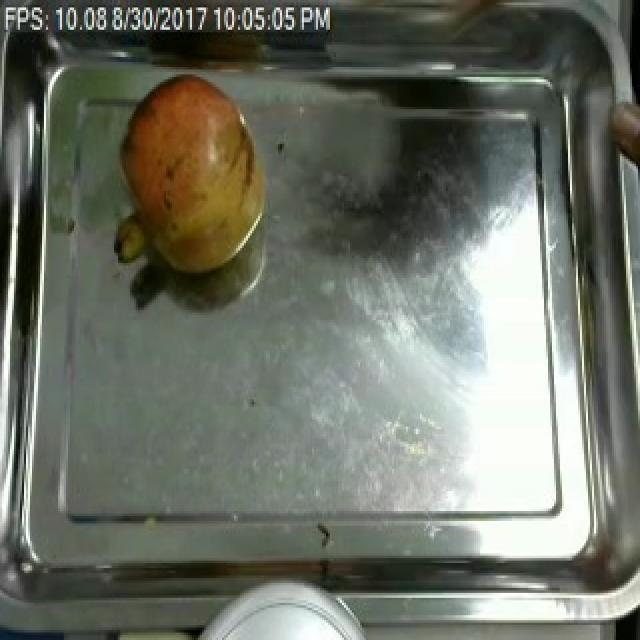fruit: (112, 67, 260, 283), (608, 89, 640, 184)
